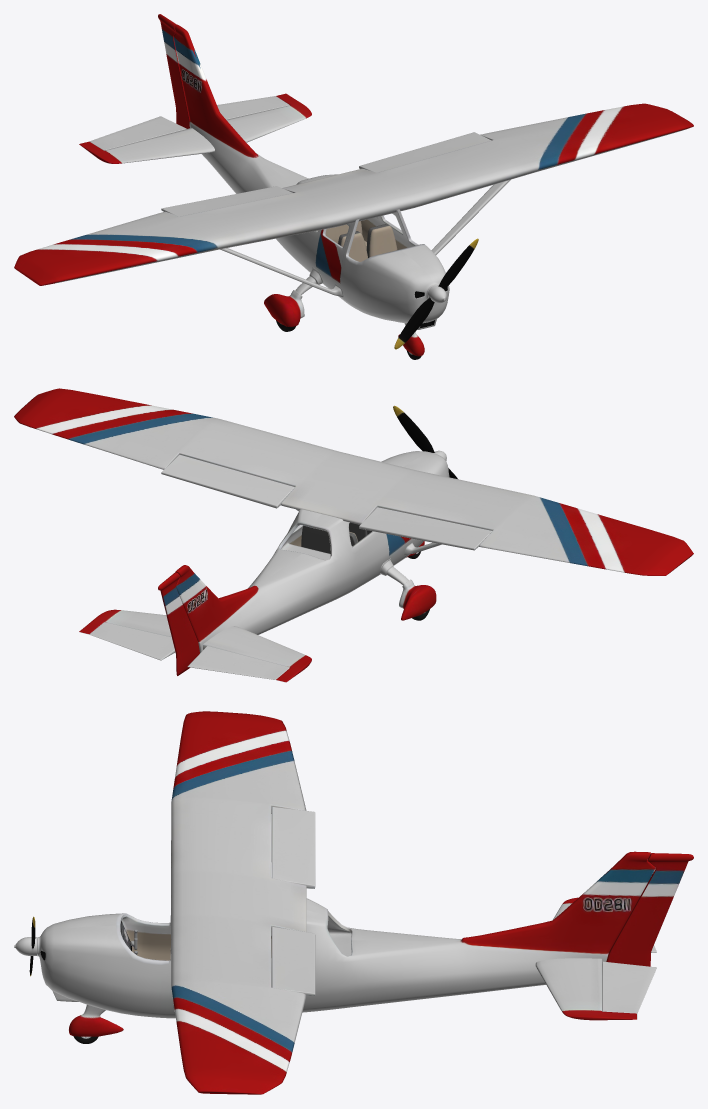
Rendered from A23DMOD_OBJ.obj.
The picture shows the model from 3 angles, top to bottom: view 1: azimuth 30°, elevation 25°; view 2: azimuth 150°, elevation 25°; view 3: azimuth 270°, elevation 25°; orthographic projection. The views are drawn at different scales.
Parts seen in each view (by area): view 1: A23DOBJ_001_Mesh, A23DOBJ_005_Mesh.004; view 2: A23DOBJ_001_Mesh, A23DOBJ_005_Mesh.004; view 3: A23DOBJ_001_Mesh.
Part boxes in pixels (bbox=[...]): A23DOBJ_001_Mesh: bbox=[14, 14, 693, 356]; A23DOBJ_005_Mesh.004: bbox=[394, 238, 478, 349]; A23DOBJ_001_Mesh: bbox=[14, 388, 693, 682]; A23DOBJ_005_Mesh.004: bbox=[393, 405, 457, 478]; A23DOBJ_001_Mesh: bbox=[37, 711, 693, 1094].
Size of the model in its own units: 8.48 by 1.99 by 6.41.
